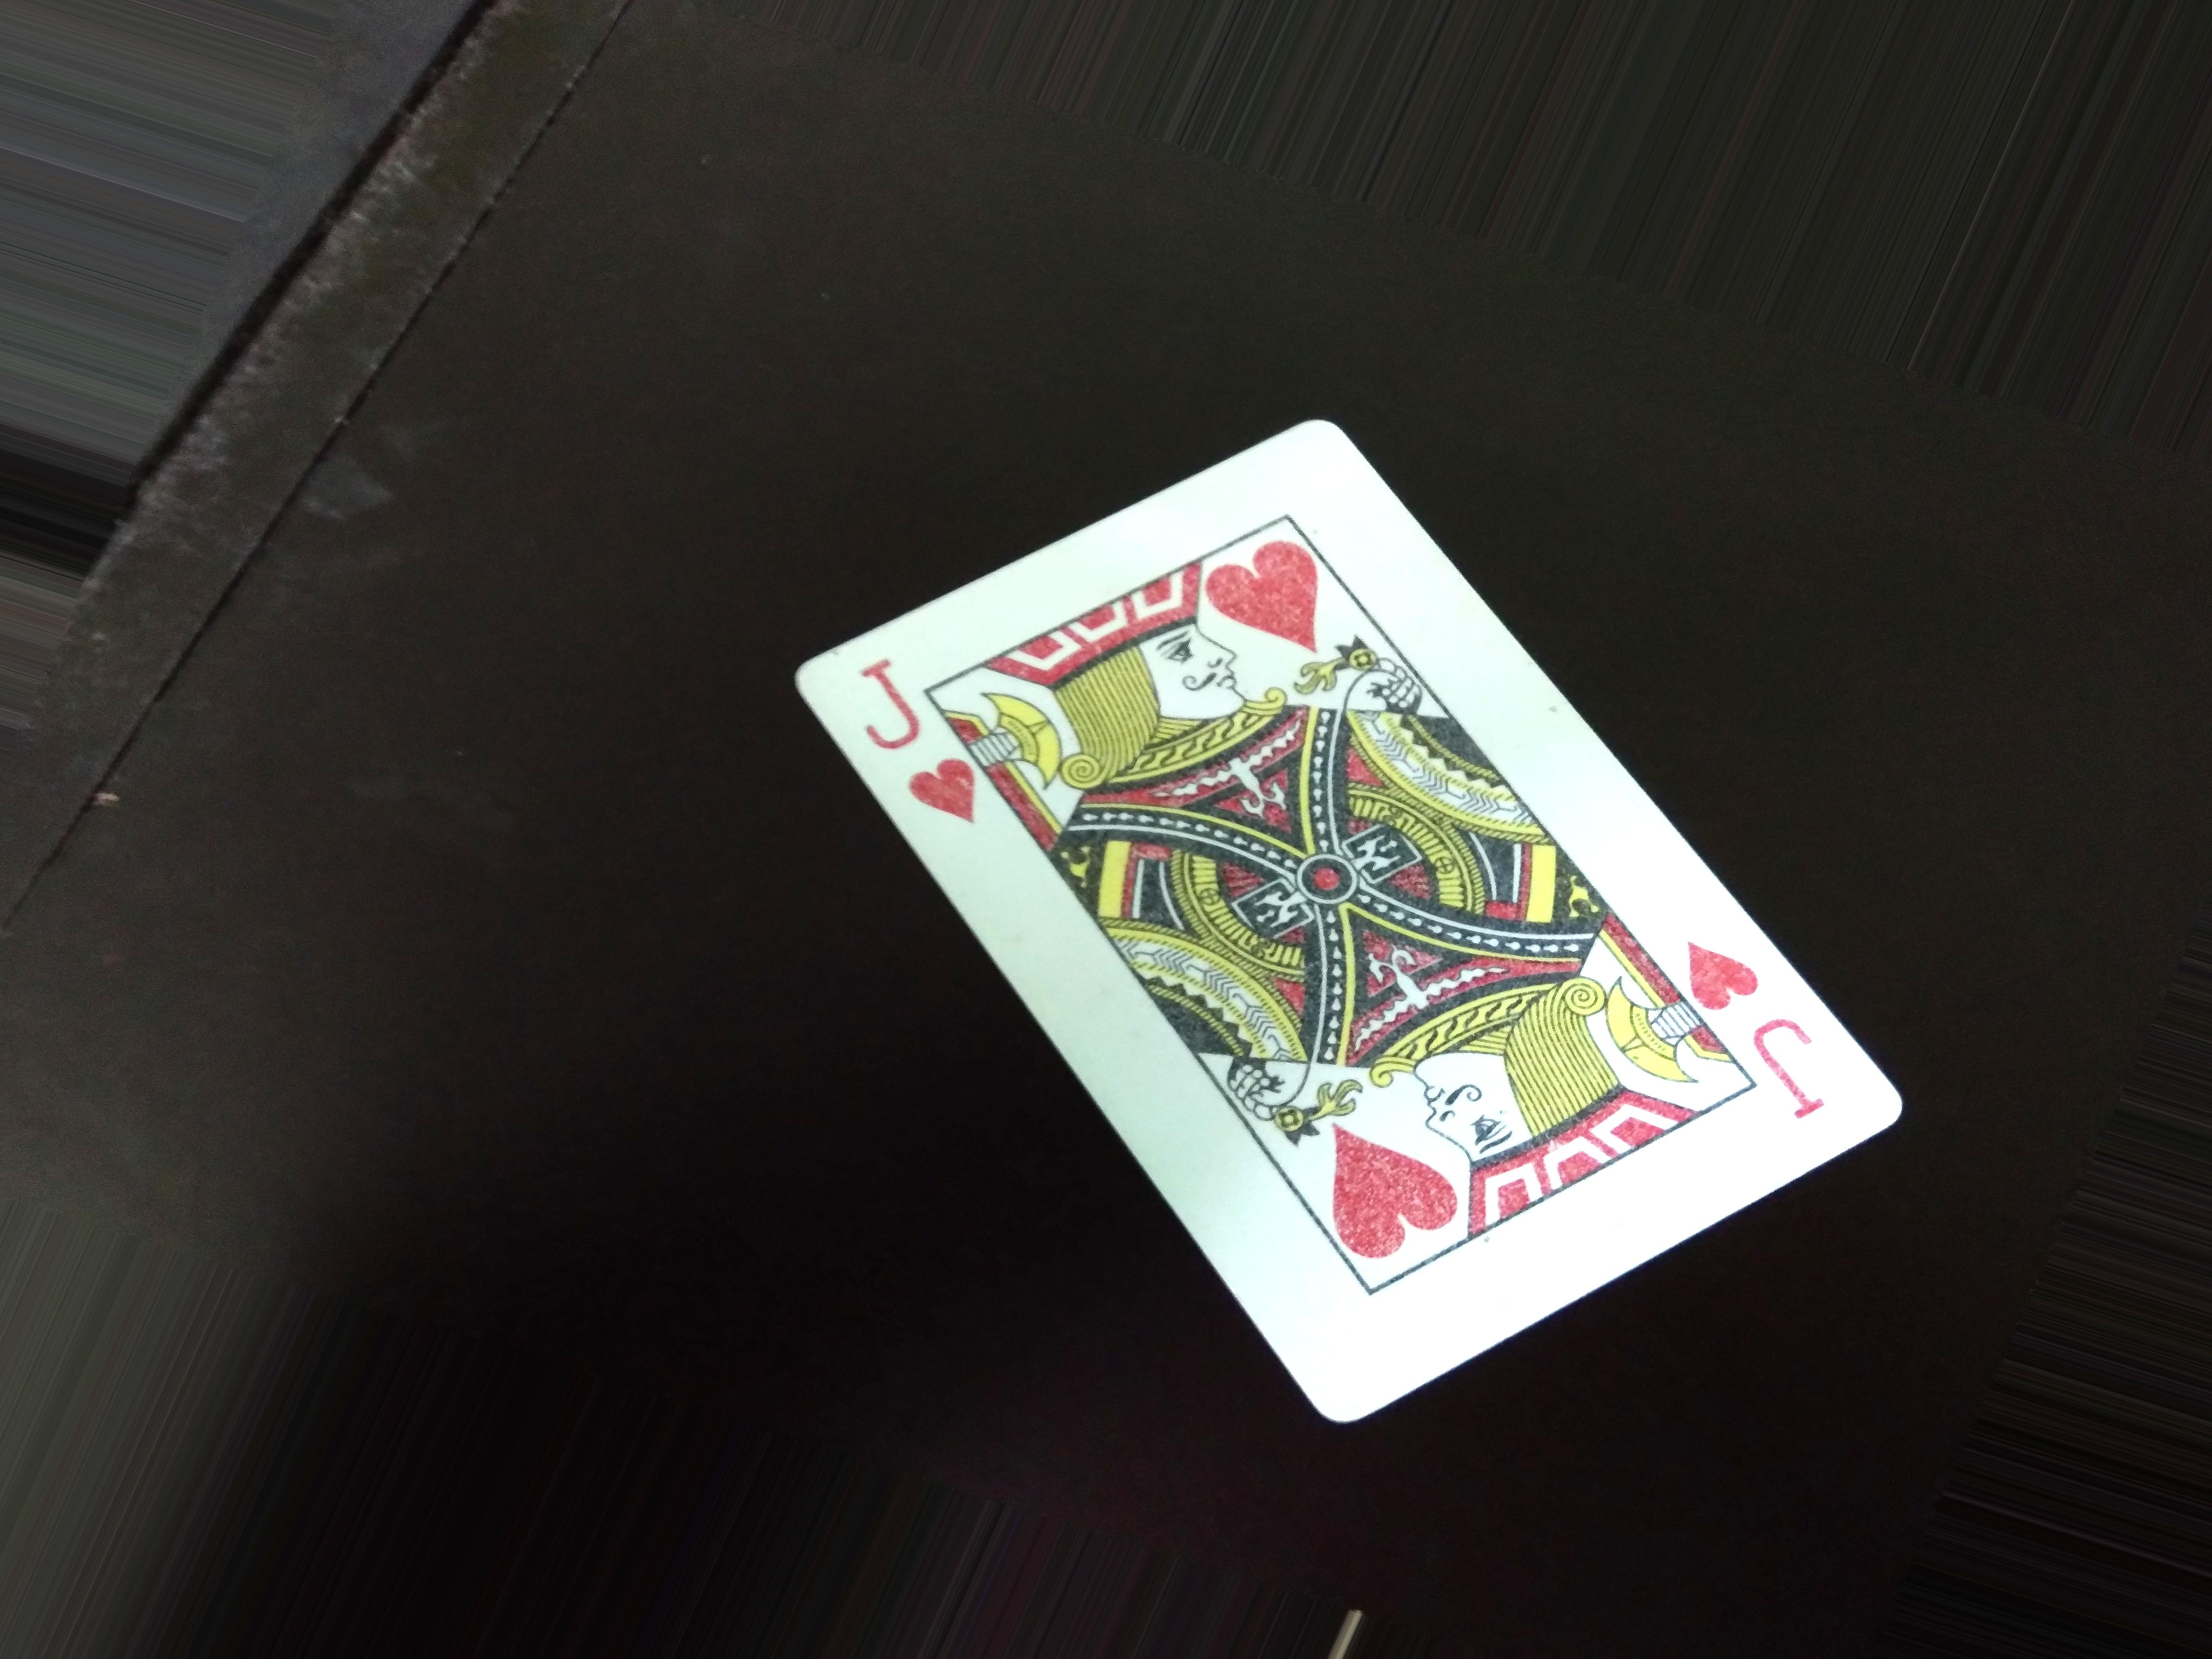JH: (855, 650, 958, 840)
